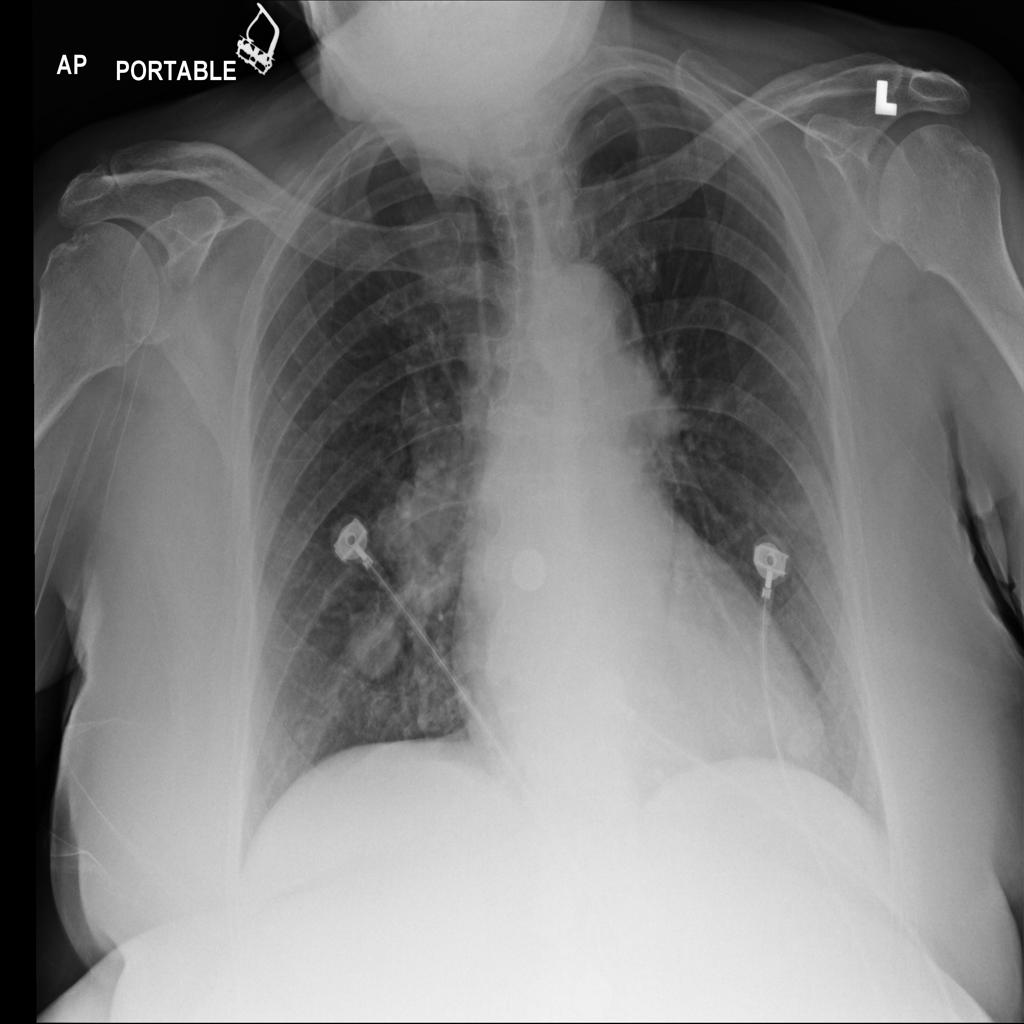nodule: (340, 601, 411, 689), (767, 689, 836, 779)
